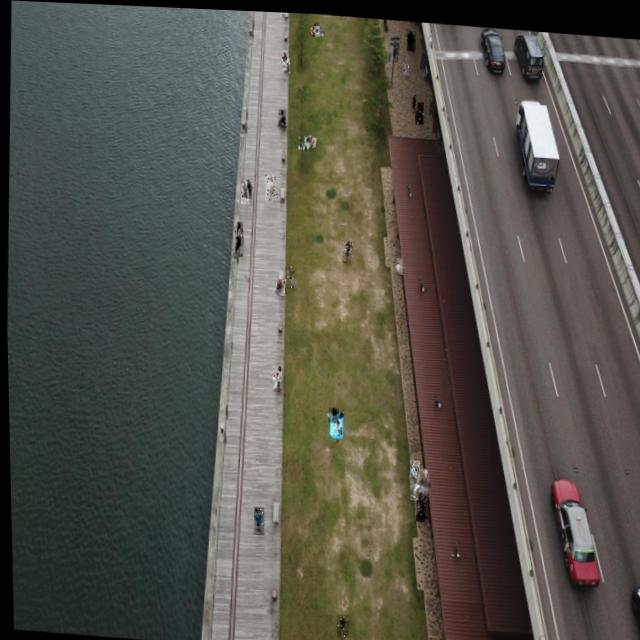Person: (232, 223, 243, 254), (413, 490, 425, 518), (407, 456, 419, 484), (406, 469, 418, 496), (415, 478, 428, 502), (283, 262, 295, 288), (251, 504, 262, 532), (333, 611, 346, 634), (415, 465, 427, 489), (263, 172, 273, 199), (268, 171, 277, 198), (239, 179, 249, 202), (269, 368, 280, 388), (414, 97, 423, 120), (328, 416, 340, 432), (325, 404, 337, 420), (342, 237, 352, 256), (269, 362, 280, 379), (274, 277, 285, 293), (235, 219, 242, 243), (244, 175, 252, 196), (277, 106, 286, 124), (408, 27, 416, 47), (409, 91, 418, 108), (394, 255, 403, 271), (281, 55, 290, 71), (405, 25, 411, 47), (314, 18, 319, 31), (341, 247, 346, 259), (281, 47, 287, 57), (316, 23, 323, 31), (403, 60, 408, 71), (311, 22, 315, 33), (308, 132, 312, 140), (280, 10, 287, 13), (281, 10, 286, 12)
